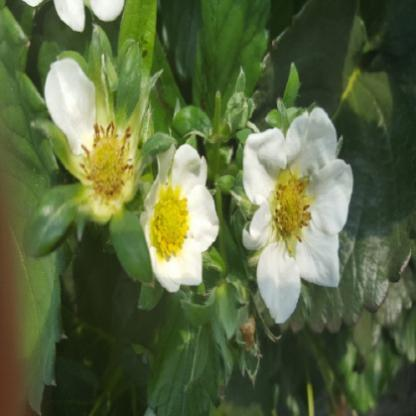Strawberry_Blossom_Blight: (76, 117, 140, 214), (266, 156, 319, 260)
